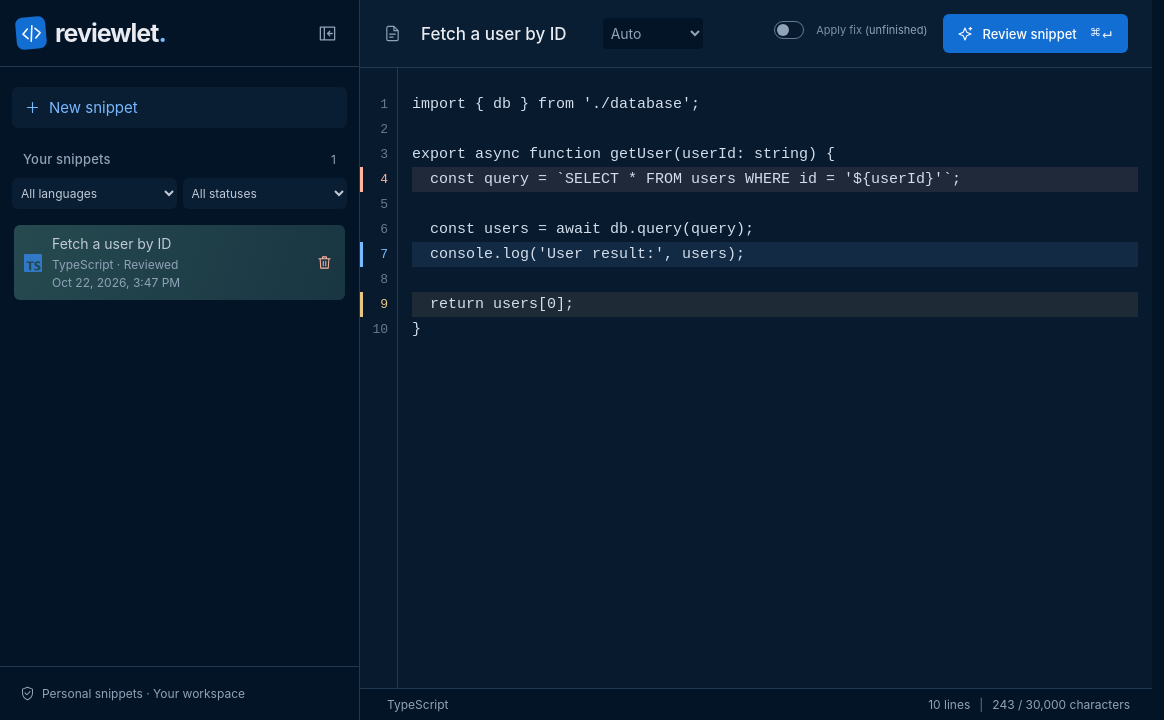
snippet editor workspace › keeps a snippet and reports an error if deletion fails
Expected: the button "Fetch a user by ID" is shown, left=14, top=225, right=345, bottom=300
Click the button named "Delete Fetch a user by ID" at (324, 262), box left=310, top=248, right=338, bottom=276
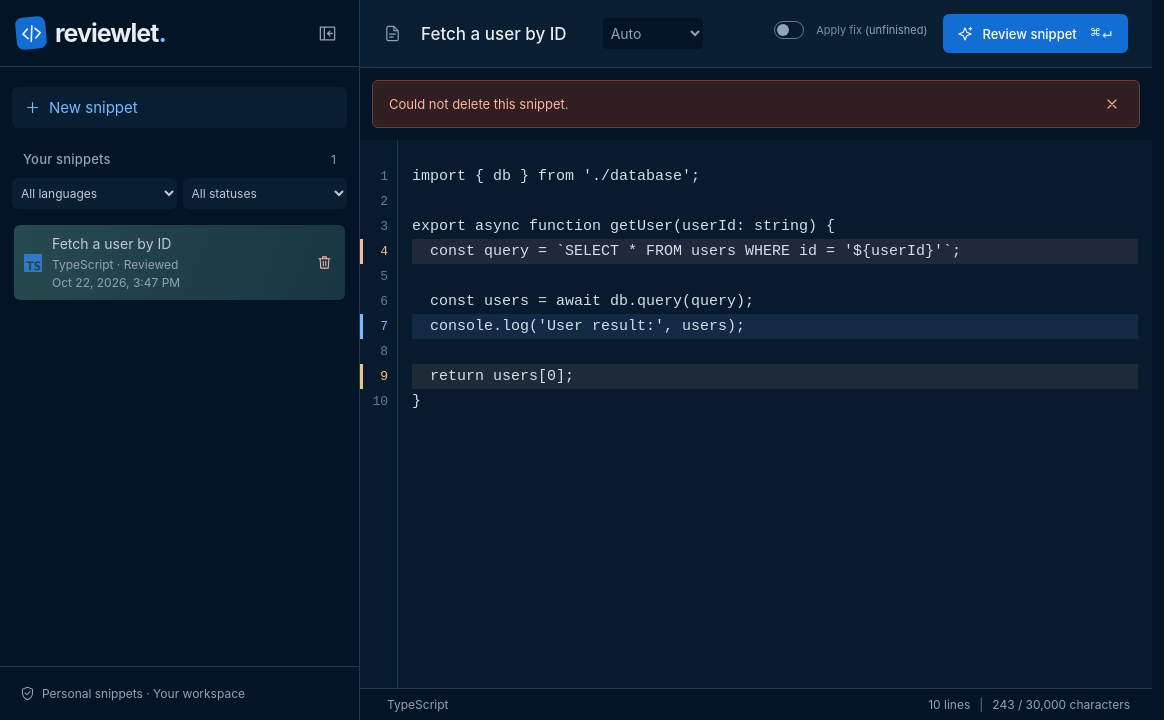
Expected: the button "Fetch a user by ID" is shown, left=14, top=225, right=345, bottom=300
Expected: the message shows "Could not delete", left=389, top=96, right=569, bottom=112
